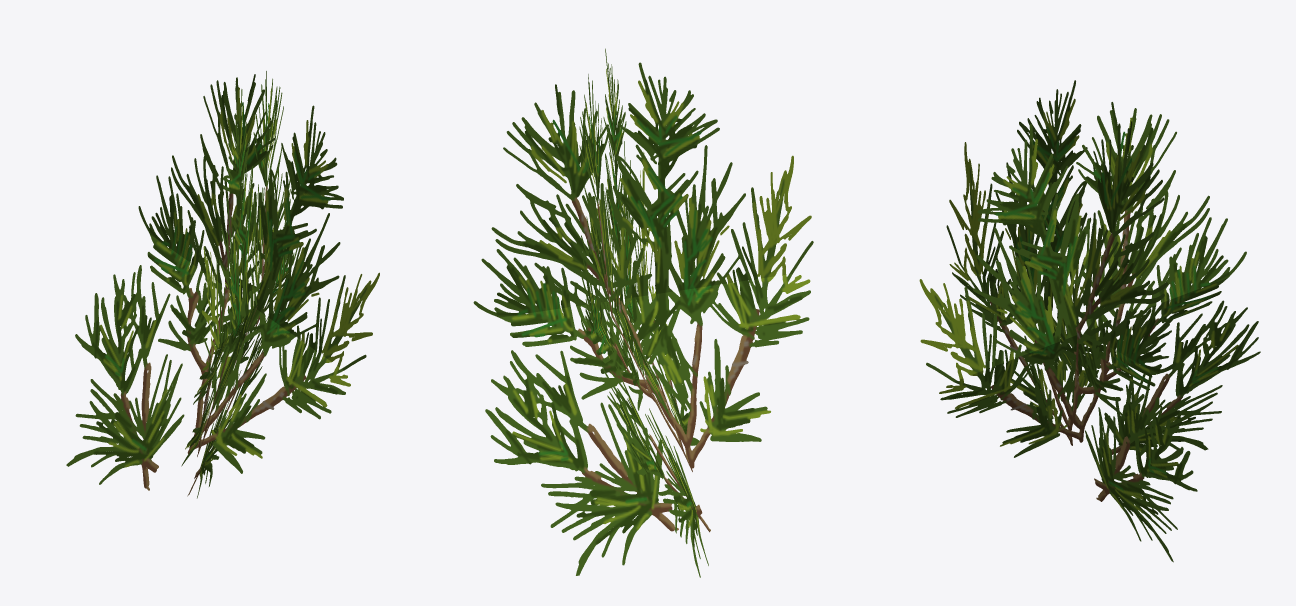
File: CypressLeafParticles.fbx
The picture shows the model from 3 angles, left to right: view 1: azimuth 30°, elevation 25°; view 2: azimuth 150°, elevation 25°; view 3: azimuth 270°, elevation 25°; orthographic projection. The views are drawn at different scales.
Parts seen in each view (by area): view 1: CypressLeafParticles; view 2: CypressLeafParticles; view 3: CypressLeafParticles.
Part boxes in pixels (x1=…): CypressLeafParticles: x1=66, y1=71, x2=379, y2=498; CypressLeafParticles: x1=473, y1=48, x2=813, y2=577; CypressLeafParticles: x1=919, y1=80, x2=1260, y2=562.
Size of the model in its own units: 1.33 by 2.34 by 1.63.
